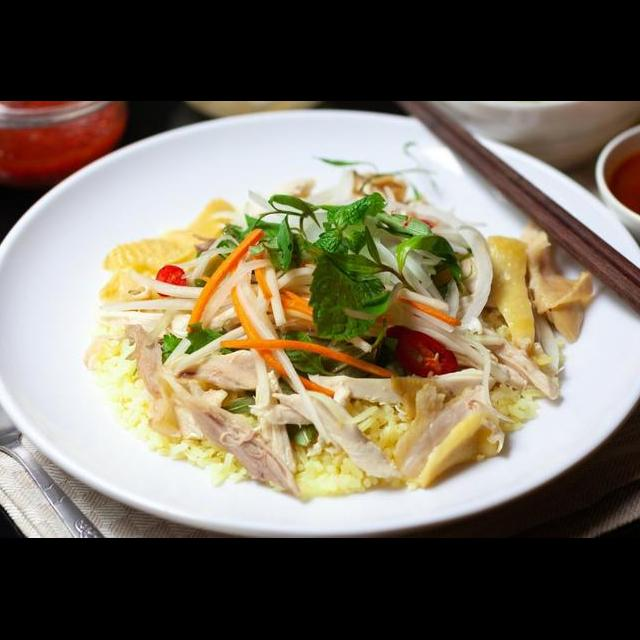com: (77, 330, 194, 464), (283, 428, 379, 499), (345, 392, 415, 467), (485, 378, 551, 440)
com ga: (48, 121, 640, 538)
rau ram: (318, 200, 474, 308), (210, 190, 348, 274), (272, 314, 411, 382)
thit ga: (425, 214, 601, 360), (144, 346, 304, 502), (379, 370, 517, 494), (95, 195, 240, 312), (241, 386, 406, 484), (120, 320, 242, 448), (439, 314, 563, 406), (304, 364, 505, 406)
